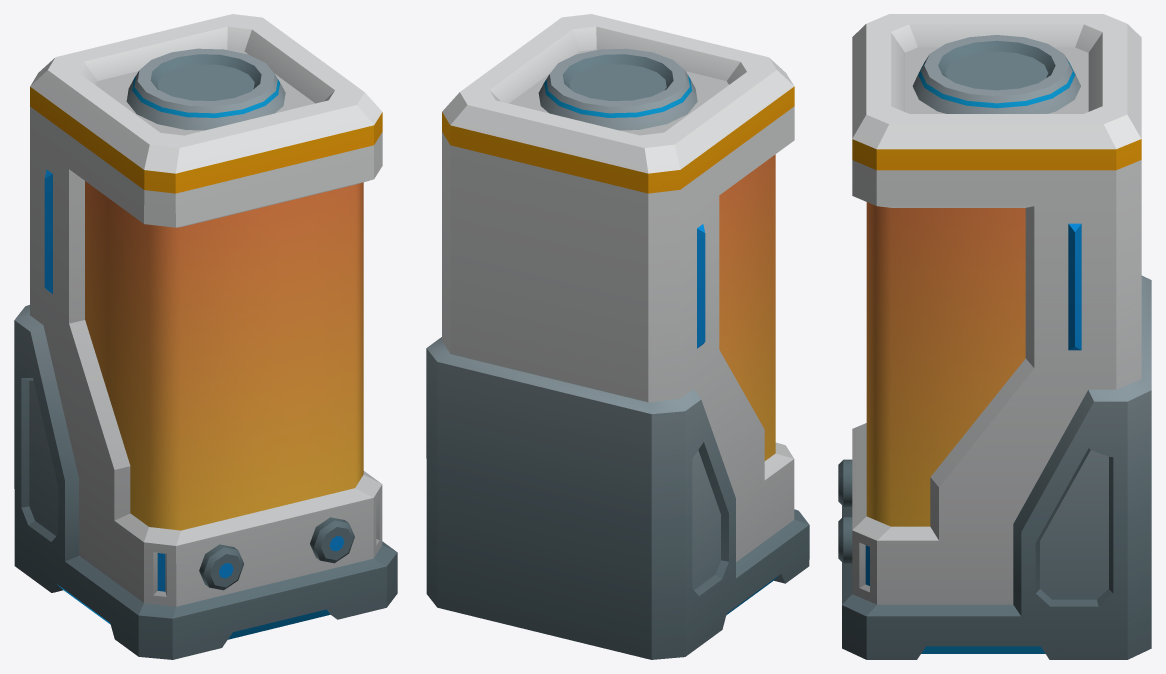
3 views of the same model, side by side, from view 1: azimuth 30°, elevation 25°; view 2: azimuth 150°, elevation 25°; view 3: azimuth 270°, elevation 25° (orthographic). The views are drawn at different scales.
Parts seen in each view (by area): view 1: Сapsule_010; view 2: Сapsule_010; view 3: Сapsule_010.
Part boxes in pixels (x1,y1,x2,y2): Сapsule_010: [14, 14, 397, 659]; Сapsule_010: [426, 14, 809, 659]; Сapsule_010: [838, 14, 1151, 659].
Bounding box in the file's own units: 109 × 108 × 201.
